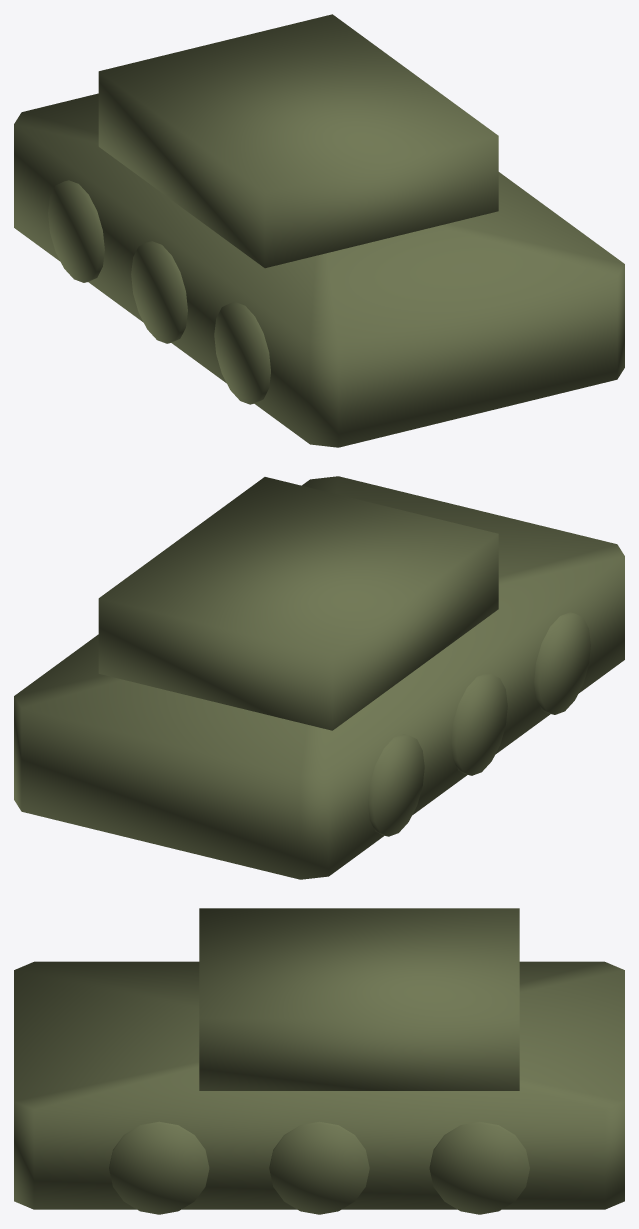
The model's file is apc_lod1.obj.
The picture shows the model from 3 angles, top to bottom: view 1: azimuth 30°, elevation 25°; view 2: azimuth 150°, elevation 25°; view 3: azimuth 270°, elevation 25°; orthographic projection. The views are drawn at different scales.
Visible parts, largest first — view 1: apc_lod1; view 2: apc_lod1; view 3: apc_lod1.
Boxes of the visible parts, bbox=[...] form: apc_lod1: bbox=[14, 14, 624, 447]; apc_lod1: bbox=[14, 476, 624, 879]; apc_lod1: bbox=[14, 908, 624, 1214].
Bounding box in the file's own units: 3.61 × 1.93 × 6.1.
